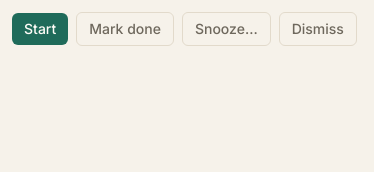
ActionStatusControls › reports other failures without refreshing
Click the button "Start".
click(40, 29)  # box [12,13,68,45]
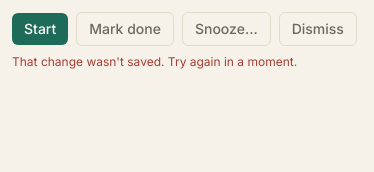
Check: the message reads "That change wasn't saved. Try again in a moment.", box [12,54,297,69]
